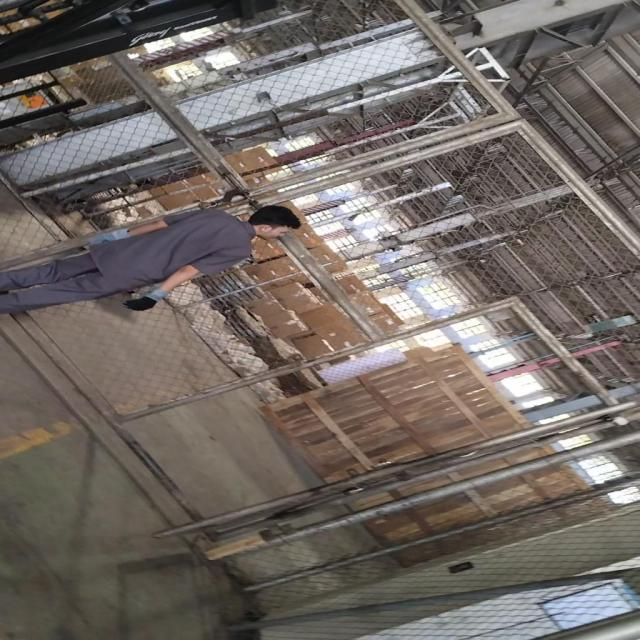Gloves-Detection: (123, 282, 166, 318), (75, 221, 129, 247)
